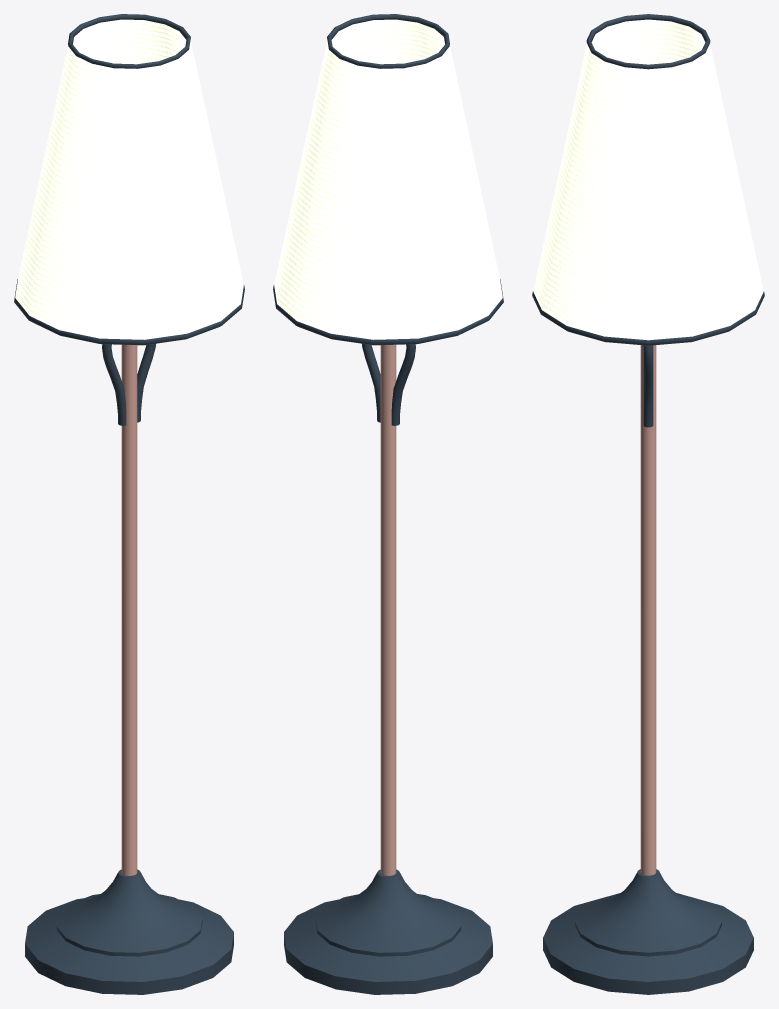
File: lamp_floor.glb
3 renders of one model, left to right at view 1: azimuth 30°, elevation 25°; view 2: azimuth 150°, elevation 25°; view 3: azimuth 270°, elevation 25°, orthographic.
Parts seen in each view (by area): view 1: floor_lamp_1; view 2: floor_lamp_1; view 3: floor_lamp_1.
Boxes of the visible parts, x1,y1,x2,y2 form: floor_lamp_1: (14,14,244,994); floor_lamp_1: (273,14,503,994); floor_lamp_1: (532,14,764,994).
Bounding box in the file's own units: 0.4814 × 2.08 × 0.4814.
Materials: 4 (1 with a texture image).
